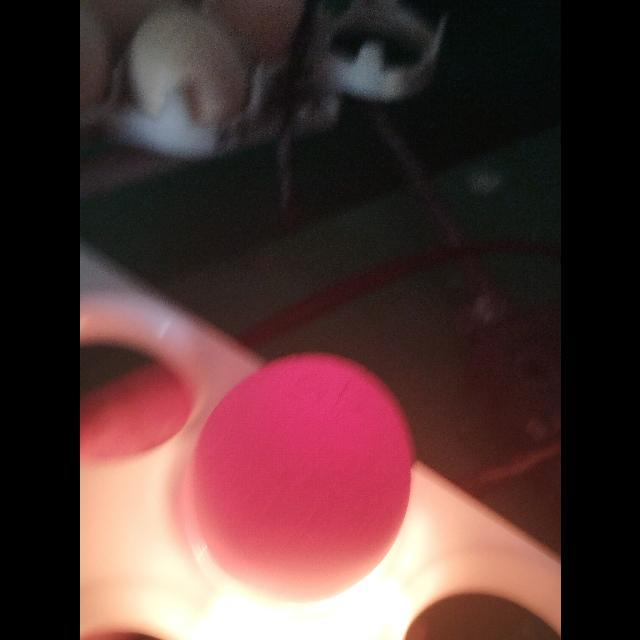Infertile: (184, 349, 416, 613)
